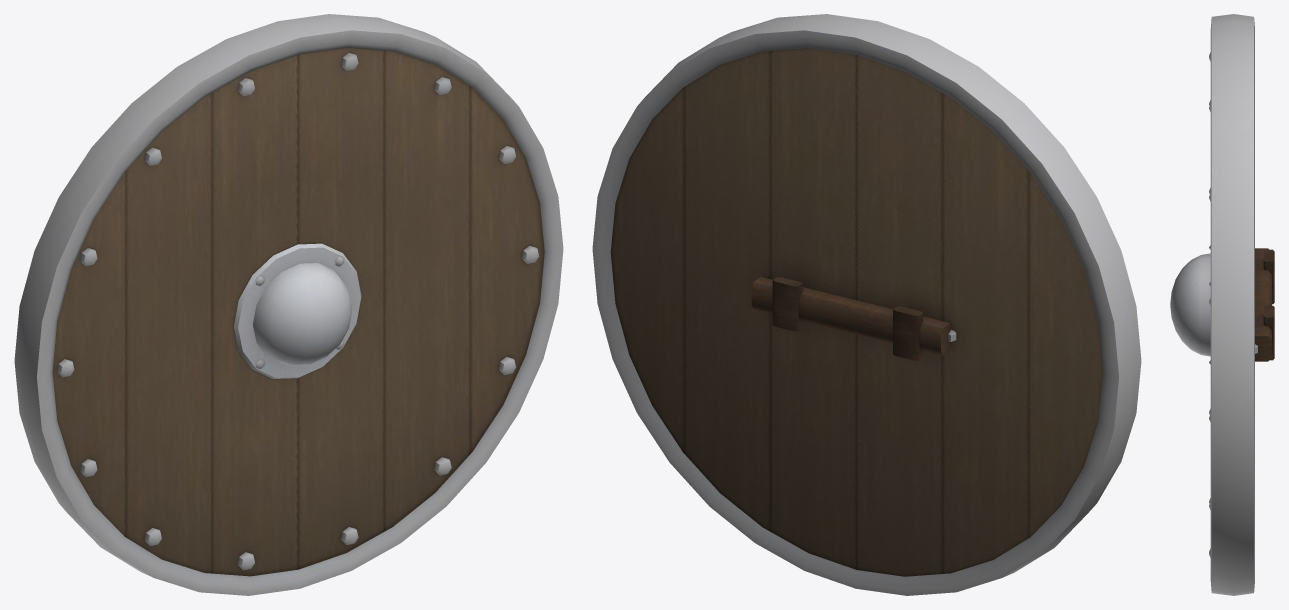
Rendered from skold_rund.glb.
3 views of the same model, side by side, from view 1: azimuth 30°, elevation 25°; view 2: azimuth 150°, elevation 25°; view 3: azimuth 270°, elevation 25° (orthographic). The views are drawn at different scales.
Parts seen in each view (by area): view 1: SM_V_skold_rund, SM_V_skold_rund_Faste; view 2: SM_V_skold_rund, SM_V_skold_rund_Faste; view 3: SM_V_skold_rund_Faste, SM_V_skold_rund.
Boxes of the visible parts, x1,y1,x2,y2 form: SM_V_skold_rund: [52, 47, 544, 576]; SM_V_skold_rund_Faste: [14, 14, 563, 595]; SM_V_skold_rund: [610, 48, 1102, 576]; SM_V_skold_rund_Faste: [592, 14, 1141, 595]; SM_V_skold_rund_Faste: [1209, 14, 1254, 595]; SM_V_skold_rund: [1170, 248, 1274, 361].
Size of the model in its own units: 0.618 by 0.618 by 0.111.
Materials: 1 (1 with a texture image).
